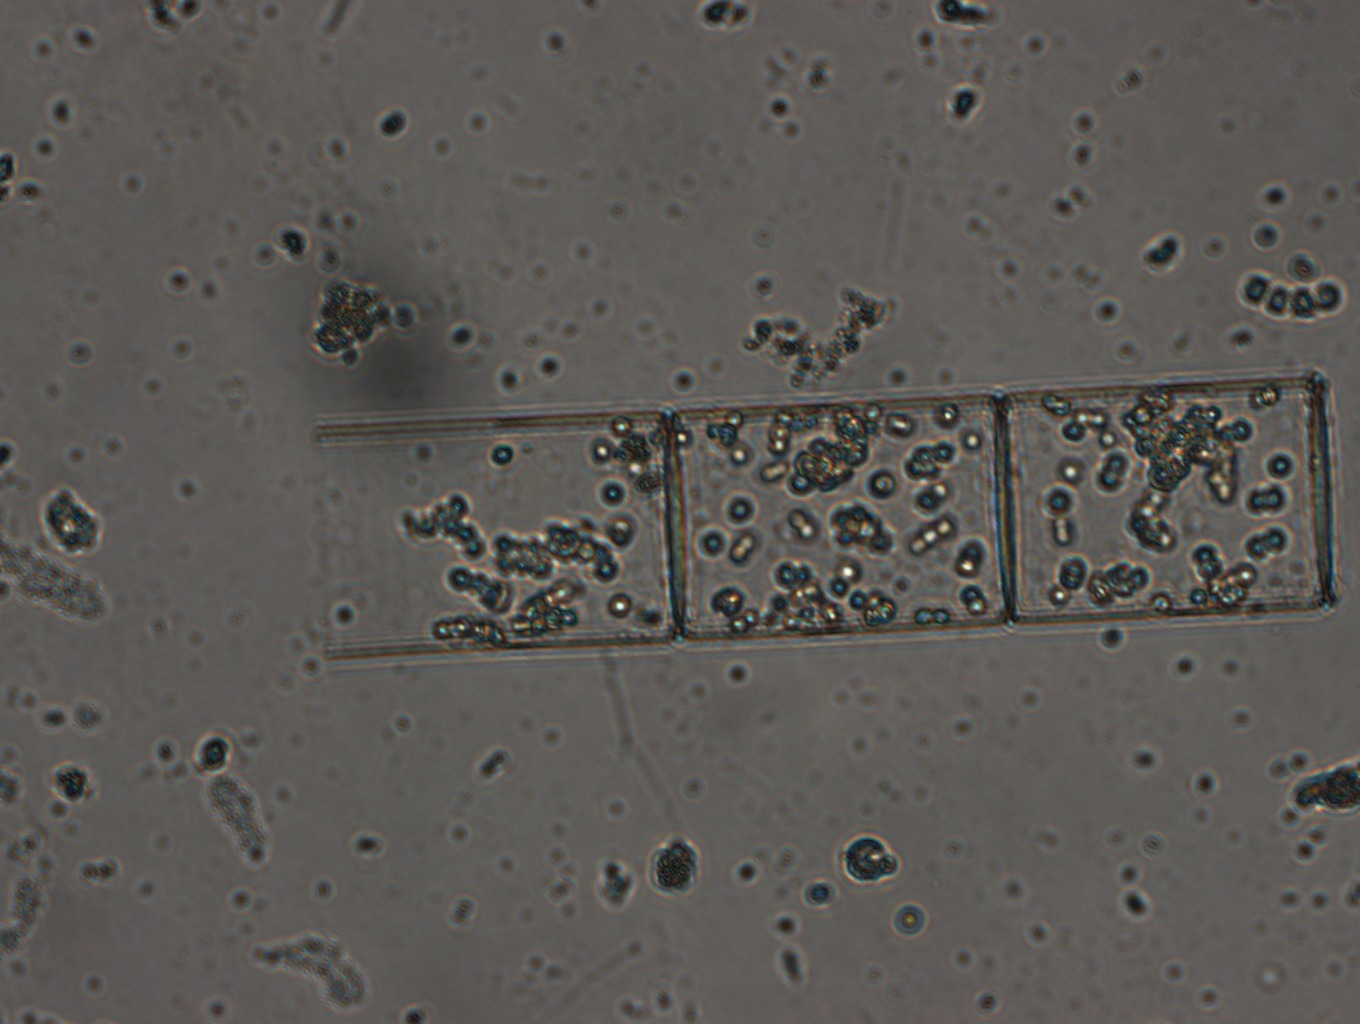guinardia flaccida: (314, 365, 1338, 653)
